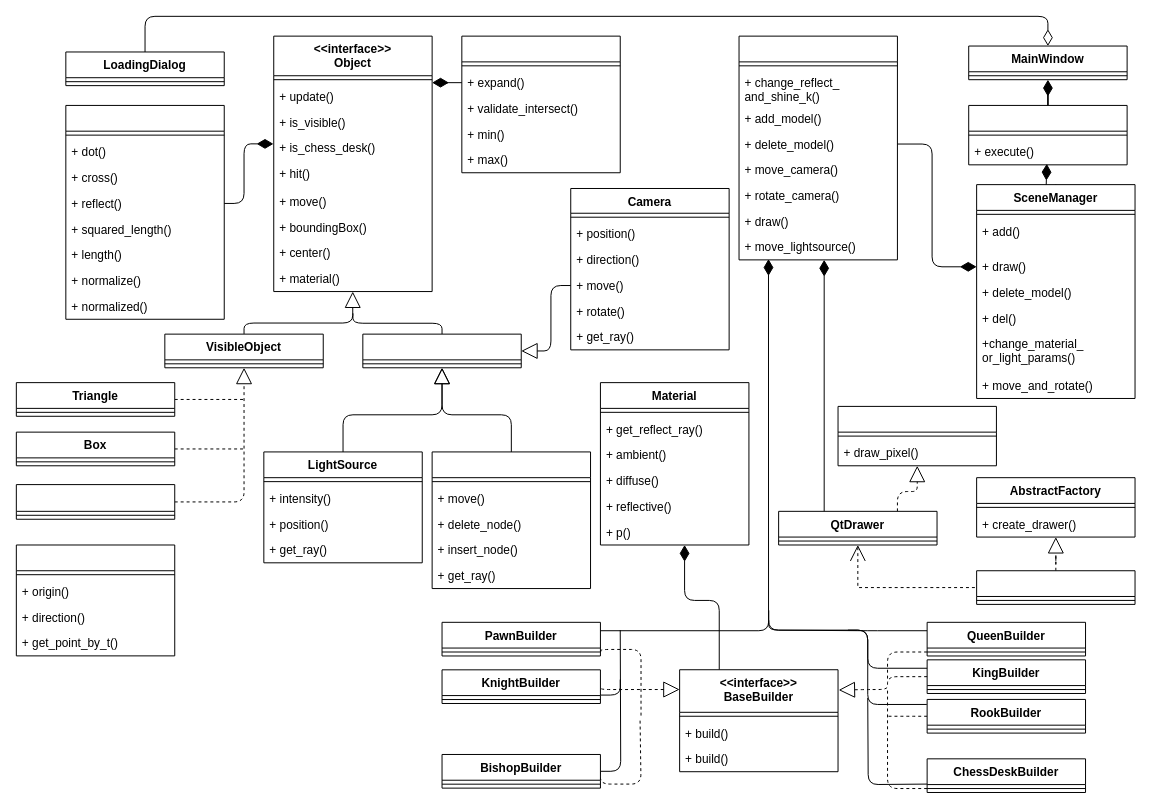
This 1151x809 diagram has some shape labels left out. Each missing label, with the box of its shape:
BaseDrawer: (837, 405, 996, 466)
BoundingBox: (461, 35, 620, 173)
Facade: (968, 104, 1127, 165)
InvisibleObject: (362, 333, 521, 368)
KDTree: (431, 451, 591, 589)
Model: (15, 484, 175, 519)
QtDrawerFactory: (976, 570, 1135, 604)
Ray: (15, 544, 175, 656)
Scene: (738, 35, 897, 260)
Vector3D: (65, 104, 224, 319)
